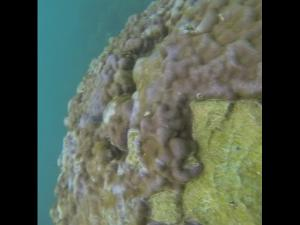bleached_corals: (52, 0, 262, 225)
